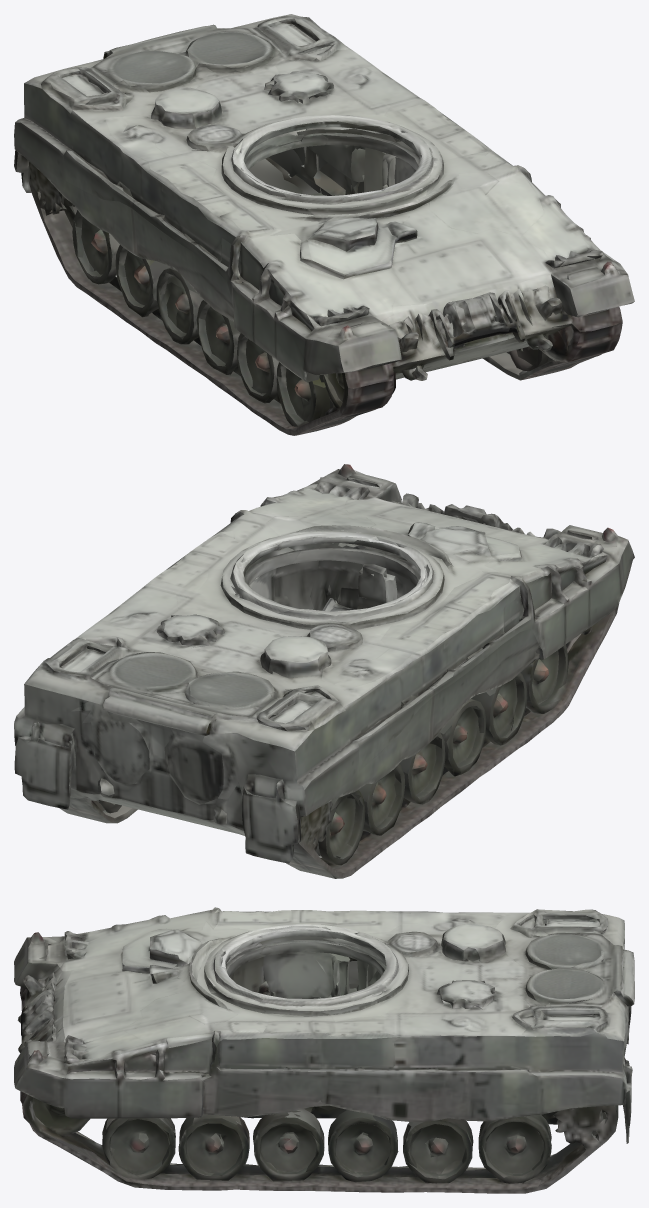
The model's file is main_hull_parts.glb.
3 renders of one model, top to bottom at view 1: azimuth 30°, elevation 25°; view 2: azimuth 150°, elevation 25°; view 3: azimuth 270°, elevation 25°, orthographic. The views are drawn at different scales.
Bounding box in the file's own units: 6.8 × 3.86 × 12.47.
4 materials, 4 textured.
